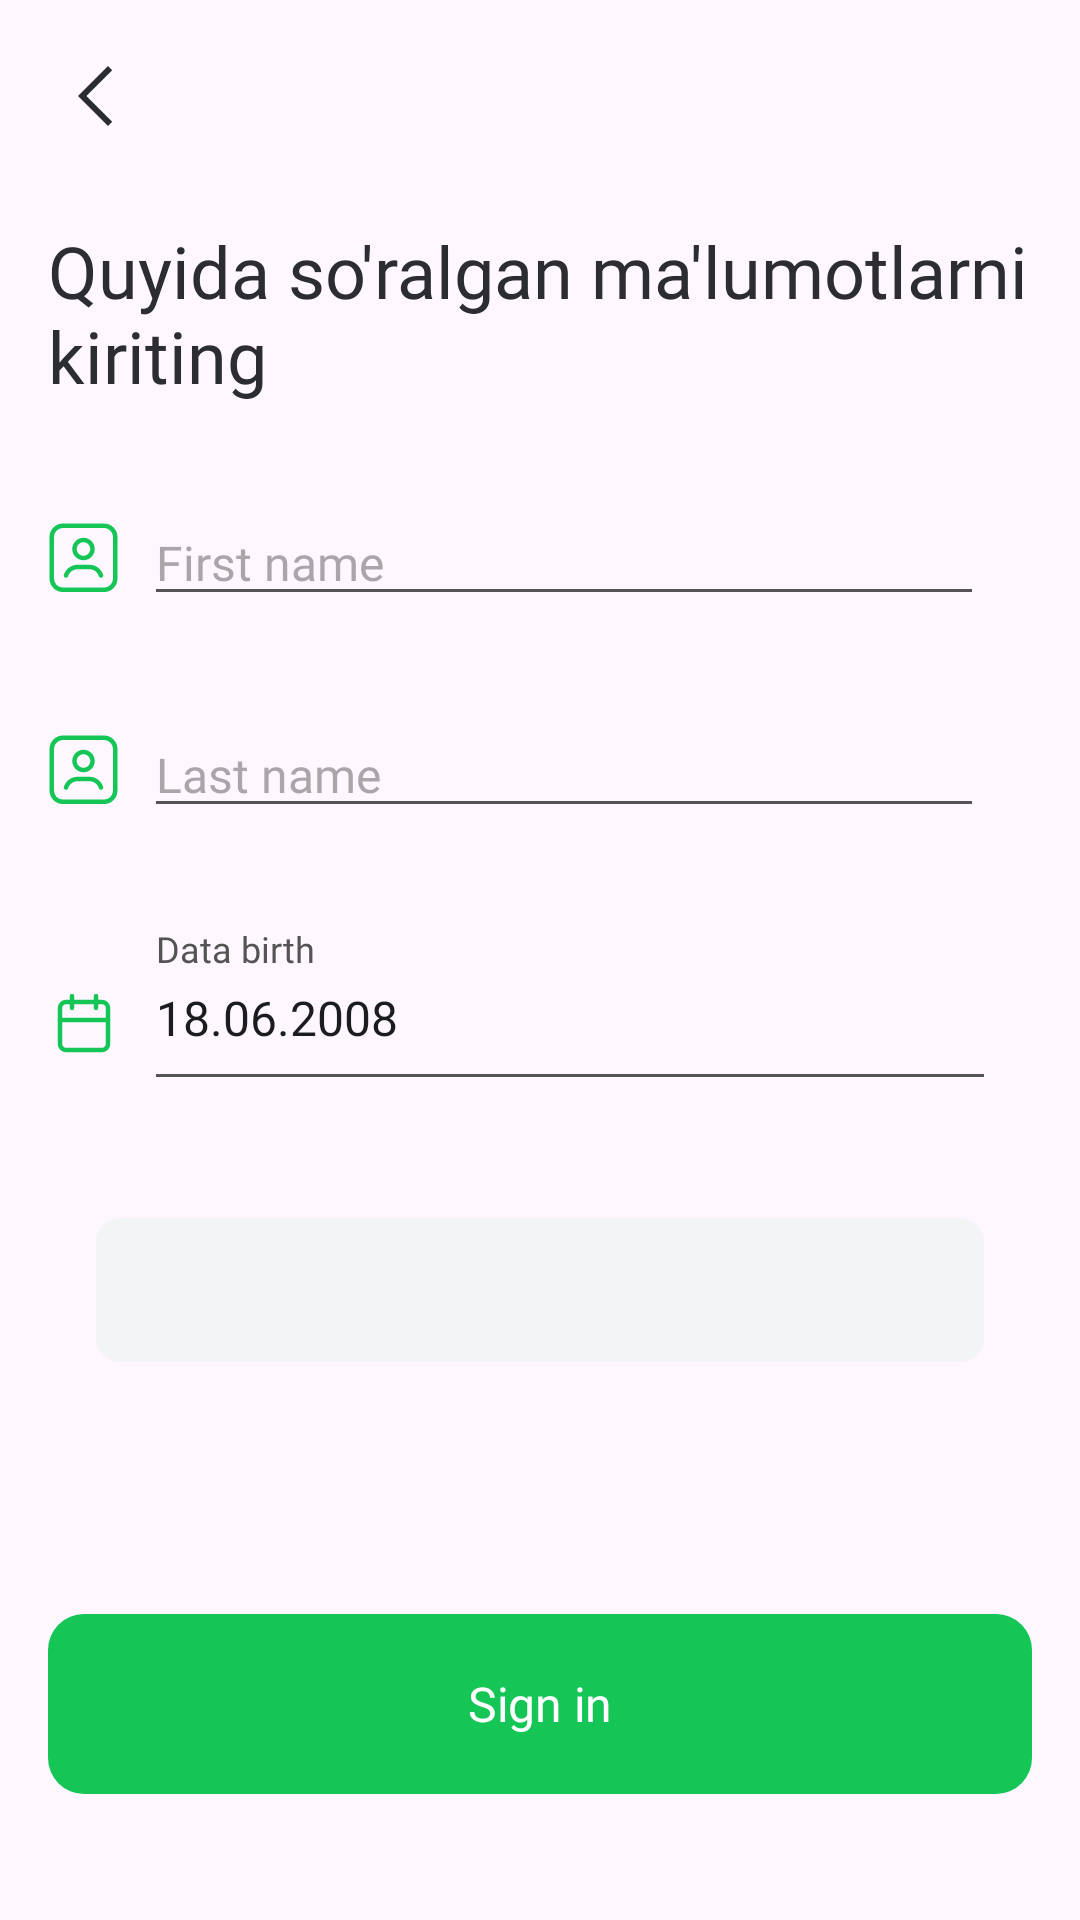

Named icons in this screenshot (1080px×1920px) and their centers, point (x, y):
arrow left: point (95, 96)
calendar: point (84, 1023)
contact: point (83, 557), point (83, 769)
